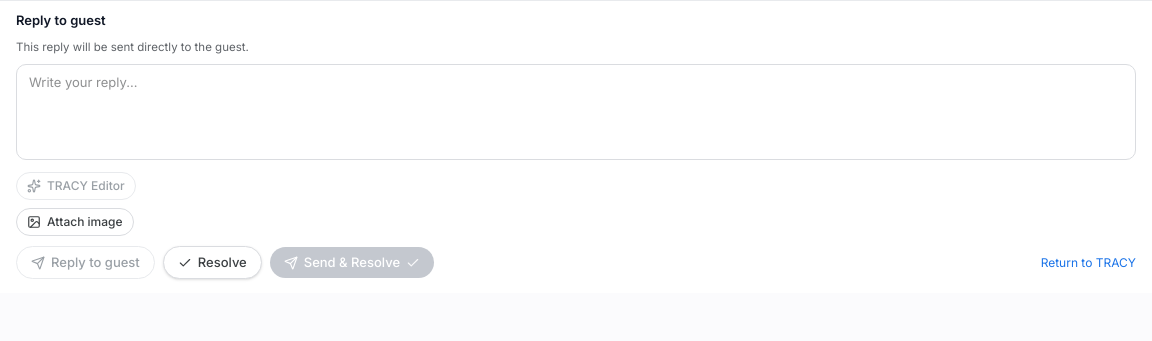
Scenario: escalation delivery confirmation › clears a confirmed hard send even if subsequent resolution loses its response
Type "Synthetic test message" into the text box at (576, 112), box 16,64 -> 1136,160
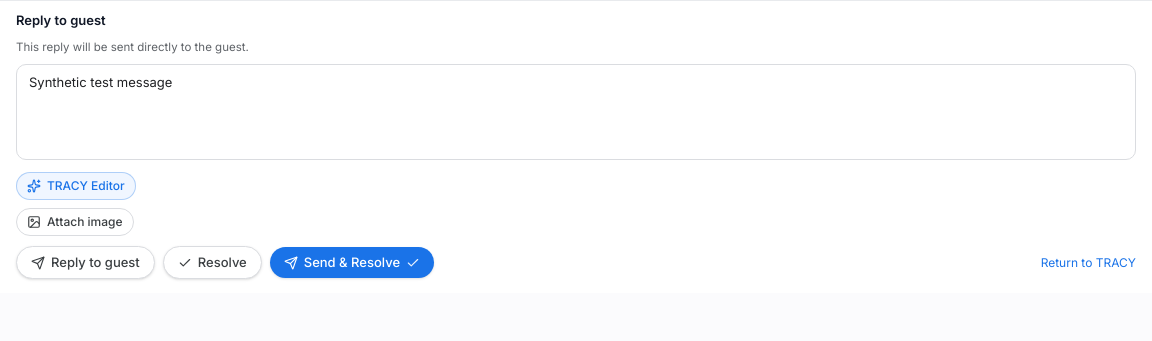
Click the button with aria-label "Reply to guest and mark resolved" at (352, 263), box 270,247 -> 434,278
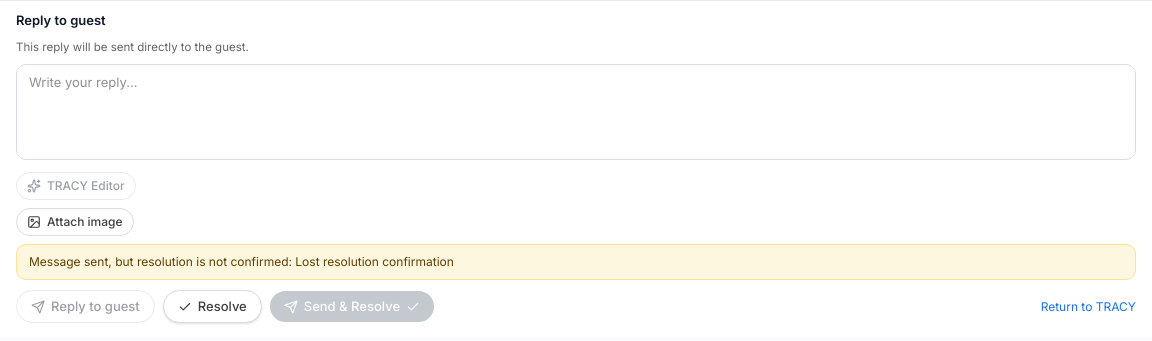
Result: the message shows "resolution is not confirmed" at 29,254 -> 454,269
Result: the message shows "Message sent" at 29,254 -> 454,269
Result: the text box is empty at 16,64 -> 1136,160
